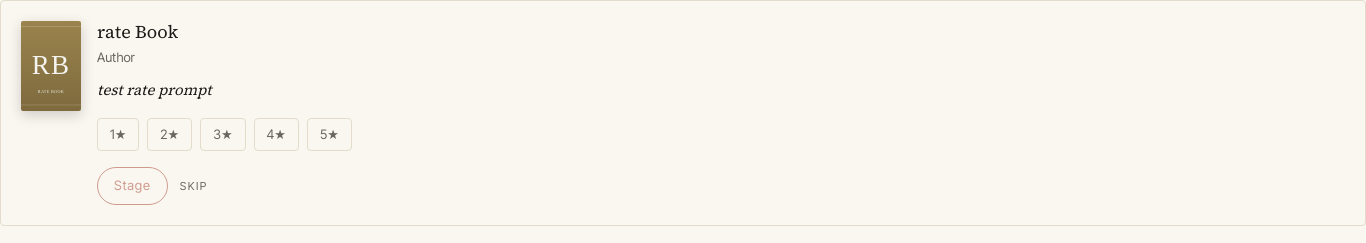
Test case: BackfillCards — staging UI › disables Stage until the card has a valid answer
Expected: the button "Stage" is disabled, [97,167,168,204]
Step 1. Click the button named "3 stars" → {"x": 223, "y": 134}, box [200,118,246,151]
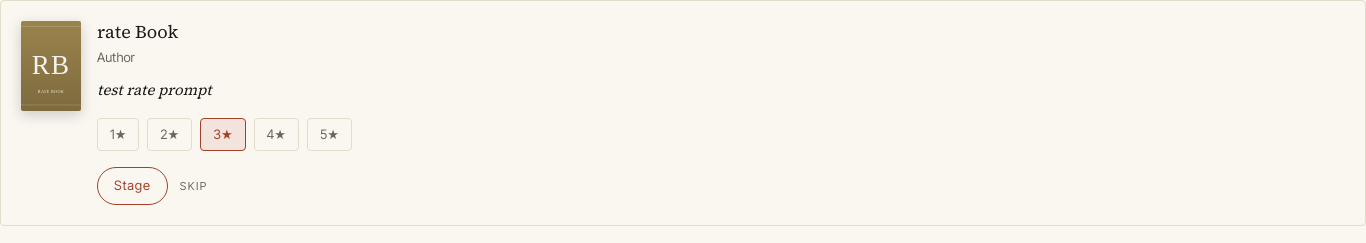
Now the button "Stage" is enabled, box [97,167,168,204]
